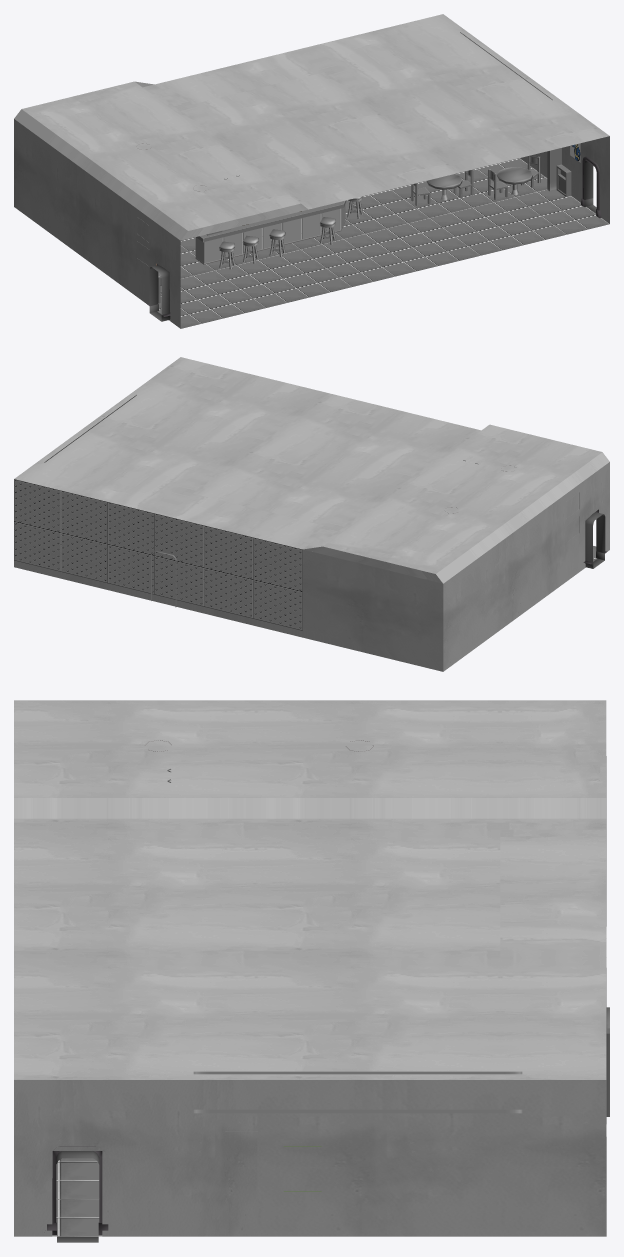
The model's file is MSH_Bar_room_L2_R3.fbx.
3 views of the same model, one above another, from view 1: azimuth 30°, elevation 25°; view 2: azimuth 150°, elevation 25°; view 3: azimuth 270°, elevation 25° (orthographic). The views are drawn at different scales.
Parts seen in each view (by area): view 1: MSH_Bar_room_L2_R3_Walls, MSH_Bar_room_L2_R3 1, MSH_Bar_room_L2_R3_lights; view 2: MSH_Bar_room_L2_R3_Walls, MSH_Bar_room_L2_R3_lights; view 3: MSH_Bar_room_L2_R3_Walls, MSH_Bar_room_L2_R3 1.
Part boxes in pixels (bbox=[...]): MSH_Bar_room_L2_R3_Walls: bbox=[14, 14, 609, 328]; MSH_Bar_room_L2_R3 1: bbox=[137, 32, 580, 303]; MSH_Bar_room_L2_R3_lights: bbox=[149, 161, 596, 321]; MSH_Bar_room_L2_R3_Walls: bbox=[14, 357, 609, 671]; MSH_Bar_room_L2_R3_lights: bbox=[585, 512, 605, 568]; MSH_Bar_room_L2_R3_Walls: bbox=[14, 700, 606, 1236]; MSH_Bar_room_L2_R3 1: bbox=[145, 740, 609, 1191].
Size of the model in its own units: 30.91 by 6.43 by 20.24.
